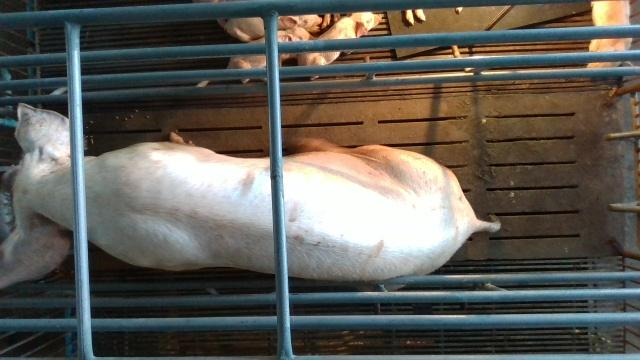piglet: (296, 11, 383, 80), (225, 27, 315, 83), (587, 0, 633, 67), (223, 13, 323, 43)
sow-sit: (0, 101, 502, 288)
